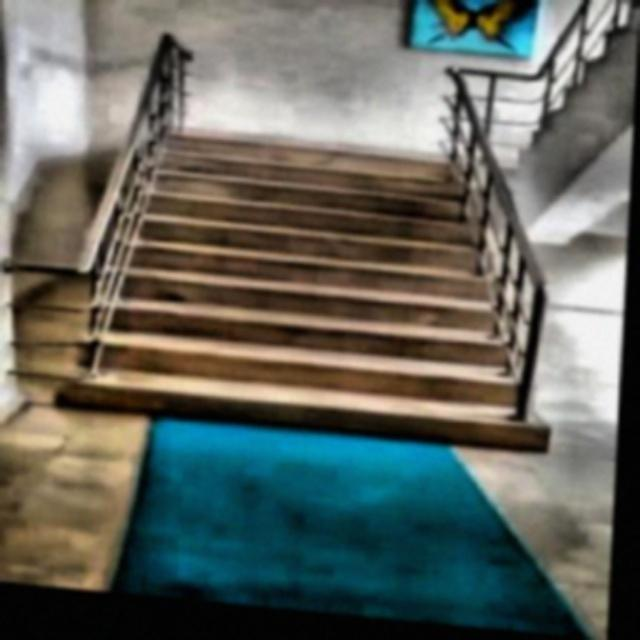stair: (61, 138, 572, 464)
